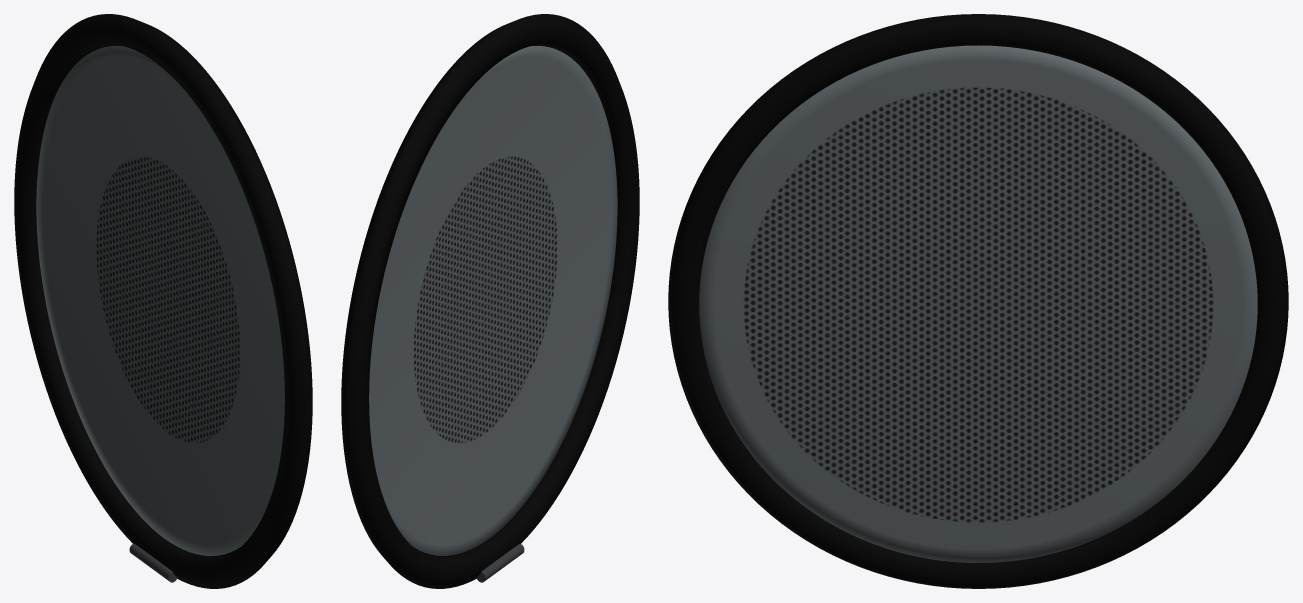
3 views of the same model, side by side, from view 1: azimuth 30°, elevation 25°; view 2: azimuth 150°, elevation 25°; view 3: azimuth 270°, elevation 25° (orthographic). The views are drawn at different scales.
Visible parts, largest first — view 1: __articraft_commit_0002_0003, __articraft_commit_0002_0000, __articraft_commit_0002_0002; view 2: __articraft_commit_0002_0003, __articraft_commit_0002_0000, __articraft_commit_0002_0002; view 3: __articraft_commit_0002_0003, __articraft_commit_0002_0000.
Part boxes in pixels (x1,y1,x2,y2): __articraft_commit_0002_0003: [36, 46, 284, 555]; __articraft_commit_0002_0000: [14, 14, 312, 588]; __articraft_commit_0002_0002: [129, 543, 177, 582]; __articraft_commit_0002_0003: [369, 46, 617, 555]; __articraft_commit_0002_0000: [341, 14, 639, 588]; __articraft_commit_0002_0002: [476, 543, 524, 582]; __articraft_commit_0002_0003: [699, 45, 1257, 562]; __articraft_commit_0002_0000: [668, 14, 1288, 588].
Size of the model in its own units: 0.0183 by 0.408 by 0.399.
Materials: 3 (1 with a texture image).
